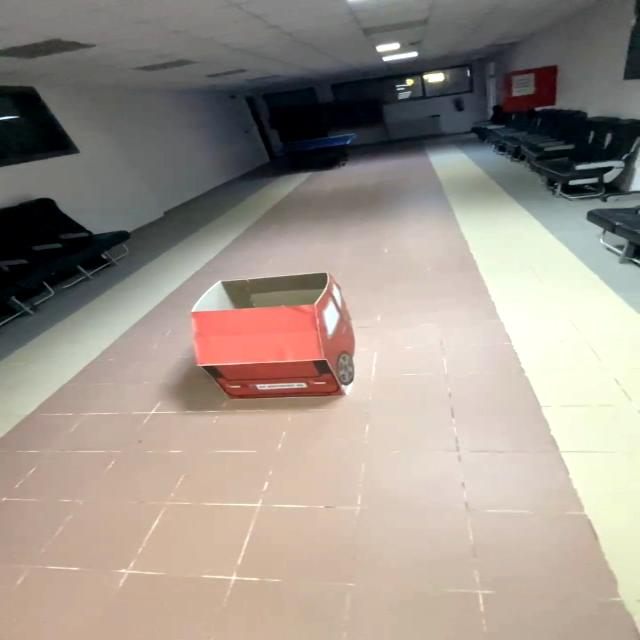red_car: (144, 259, 401, 431)
